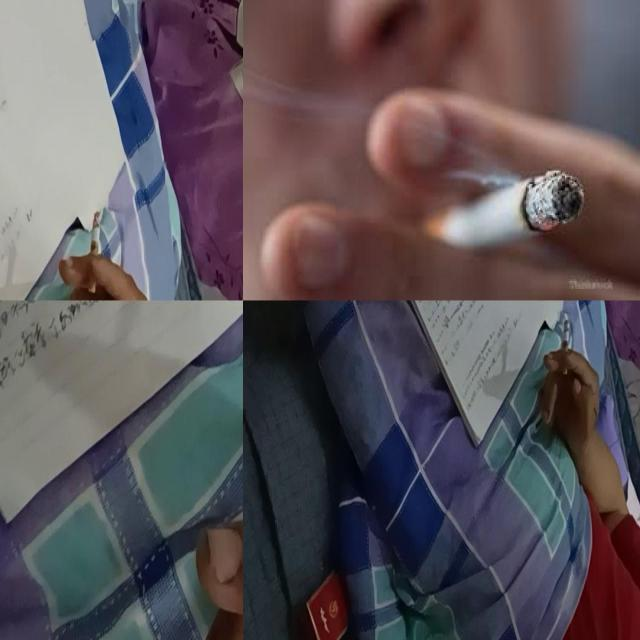smoking: (422, 170, 586, 256), (87, 212, 101, 294), (562, 320, 570, 374)
